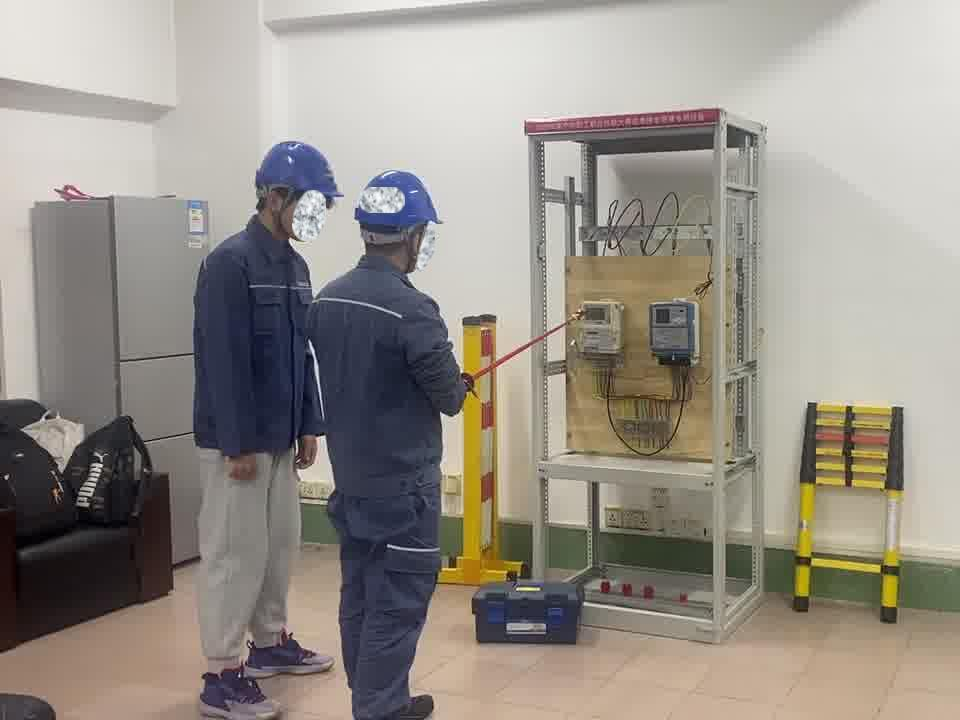halt: (254, 142, 343, 244), (356, 171, 443, 274)
inear: (264, 184, 299, 230), (400, 226, 427, 268)
